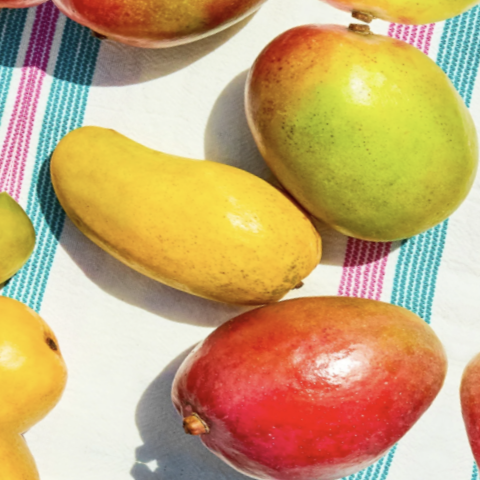mango: (108, 233, 471, 480), (167, 0, 480, 275), (5, 102, 365, 341)
